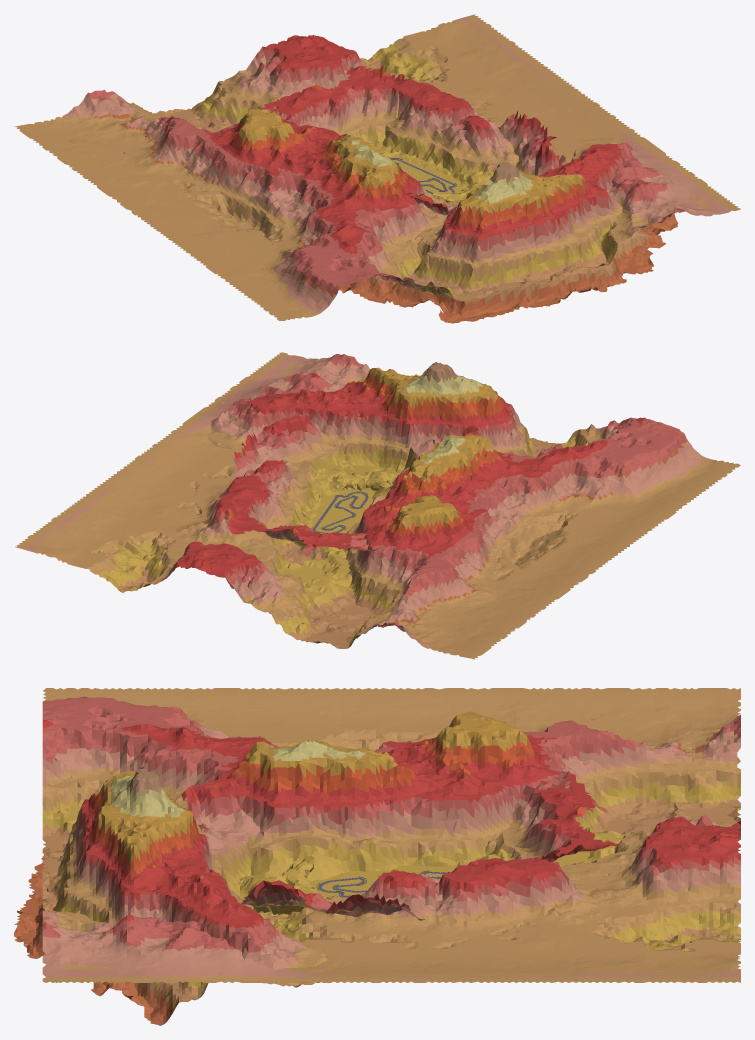
The model's file is CanyonTrack 2.fbx.
3 renders of one model, top to bottom at view 1: azimuth 30°, elevation 25°; view 2: azimuth 150°, elevation 25°; view 3: azimuth 270°, elevation 25°, orthographic. The views are drawn at different scales.
Parts seen in each view (by area): view 1: Landscape.005, Plane; view 2: Landscape.005, Plane, Plane.003; view 3: Landscape.005, Plane.
Part boxes in pixels (x1,y1,x2,y2): Landscape.005: [14, 14, 740, 323]; Plane: [389, 152, 467, 194]; Landscape.005: [15, 352, 740, 659]; Plane: [302, 489, 374, 533]; Plane.003: [312, 492, 368, 533]; Landscape.005: [14, 688, 740, 1025]; Plane: [308, 865, 457, 896].
Bounding box in the file's own units: 2862 × 634 × 2972.
